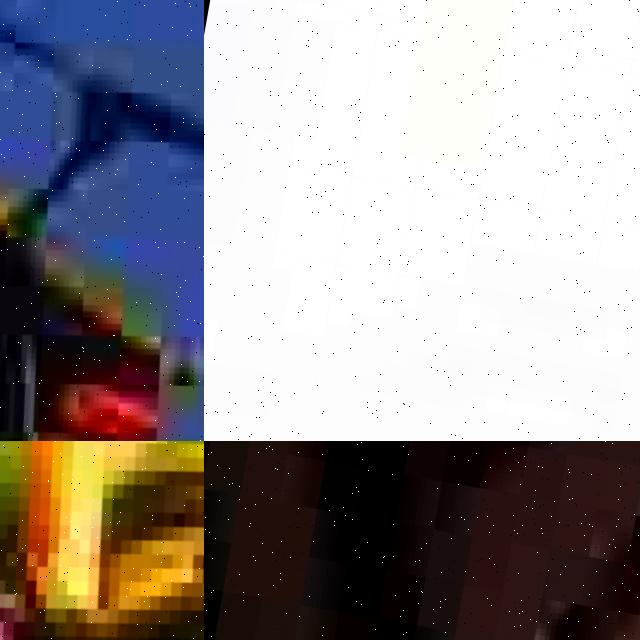drone: (0, 0, 204, 441), (0, 441, 204, 640)
